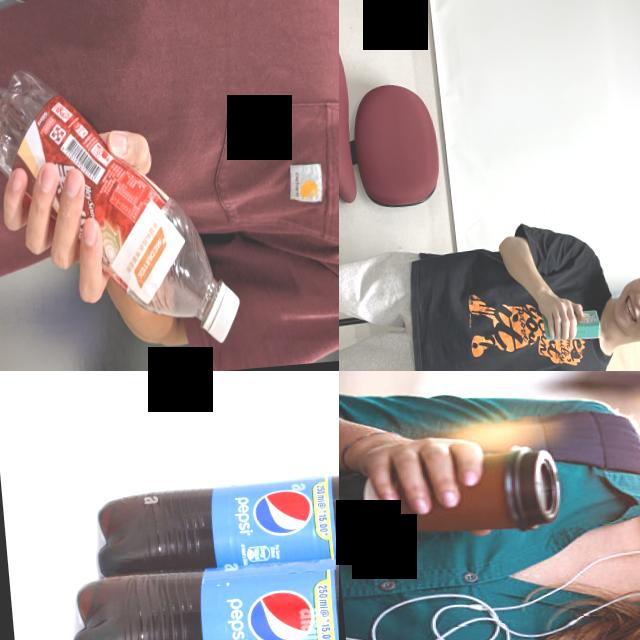bottle: (0, 47, 243, 366), (90, 454, 339, 585), (63, 538, 339, 640)
cup: (354, 441, 560, 544)
